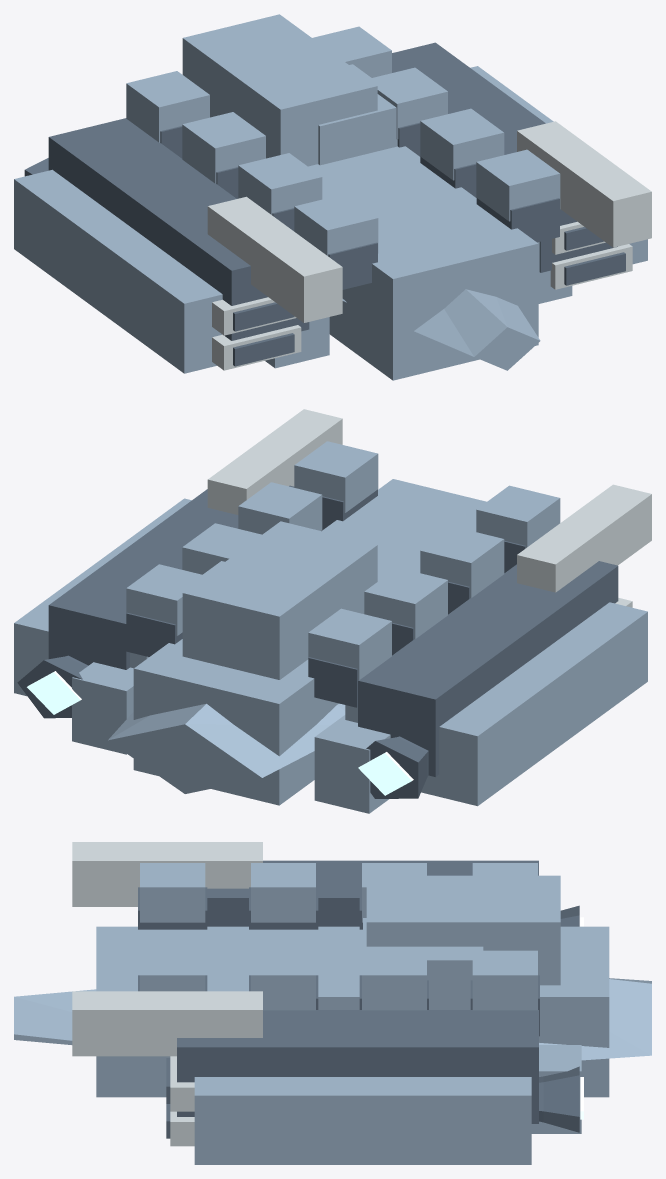
The picture shows the model from 3 angles, top to bottom: view 1: azimuth 30°, elevation 25°; view 2: azimuth 150°, elevation 25°; view 3: azimuth 270°, elevation 25°; orthographic projection.
Bounding box in the file's own units: 15.29 × 5.72 × 18.41.
